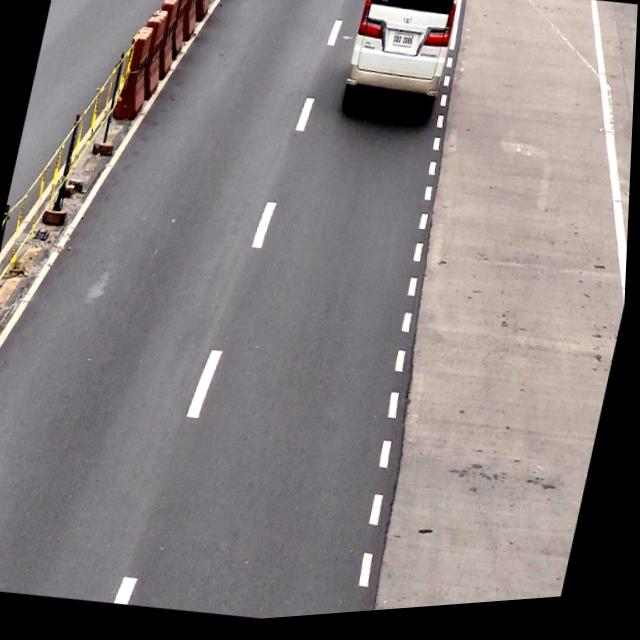Car: (343, 0, 462, 127)
License-Plate: (392, 34, 416, 58)
